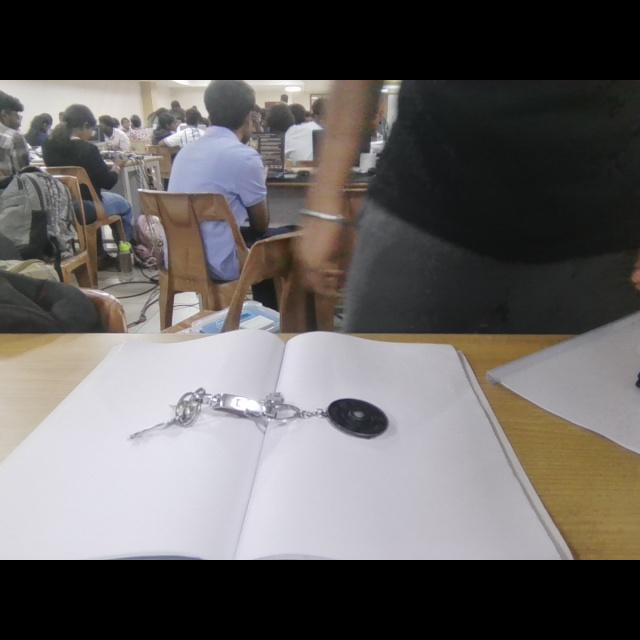keys: (113, 366, 399, 452)
